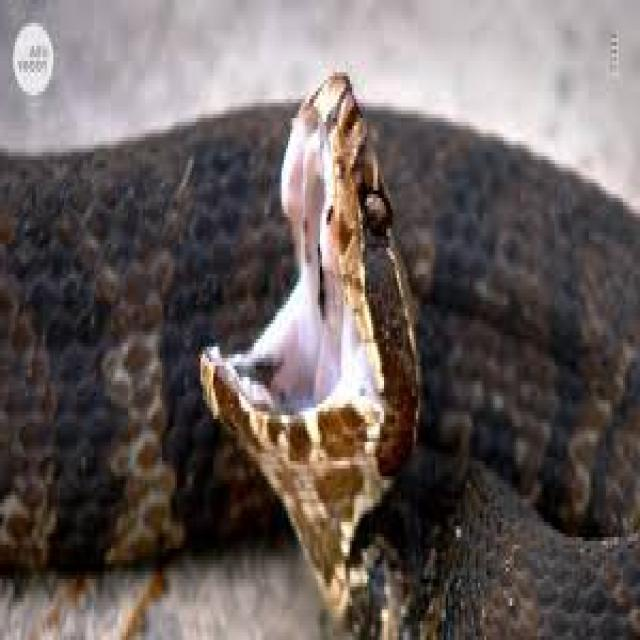snake: (2, 72, 640, 636)
